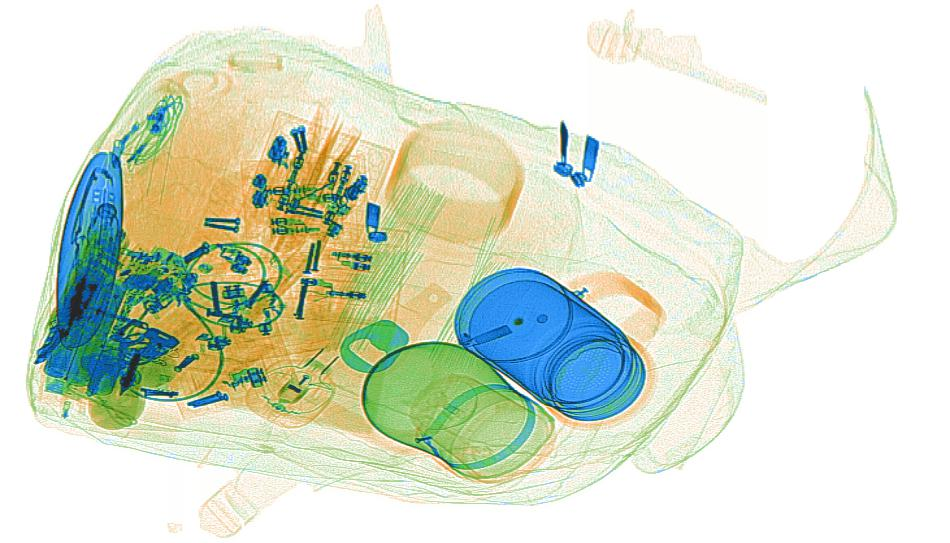battery: (43, 253, 154, 399)
